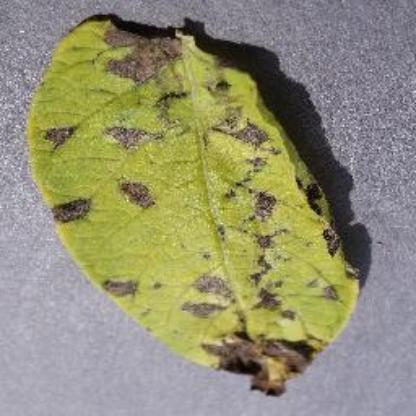Early-Blight: (26, 11, 370, 397)
